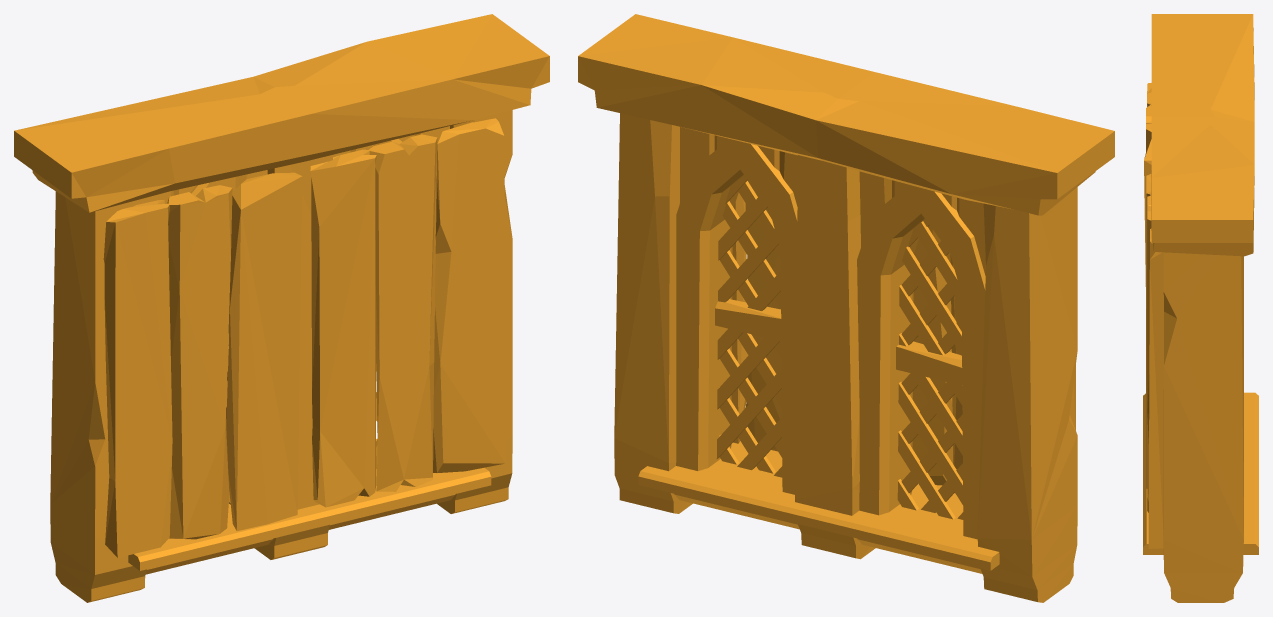
File: SM_Window_Wood_Big_Shut_A_Fantasy.fbx
3 renders of one model, left to right at view 1: azimuth 30°, elevation 25°; view 2: azimuth 150°, elevation 25°; view 3: azimuth 270°, elevation 25°, orthographic. The views are drawn at different scales.
Visible parts, largest first — view 1: SM_Window_Wood_Big_Shut_A_Fantasy; view 2: SM_Window_Wood_Big_Shut_A_Fantasy; view 3: SM_Window_Wood_Big_Shut_A_Fantasy.
Part boxes in pixels (<box>): SM_Window_Wood_Big_Shut_A_Fantasy: <box>14,14,549,602</box>; SM_Window_Wood_Big_Shut_A_Fantasy: <box>578,14,1114,602</box>; SM_Window_Wood_Big_Shut_A_Fantasy: <box>1143,14,1258,602</box>.
Bounding box in the file's own units: 2.48 × 2.23 × 0.5888.
